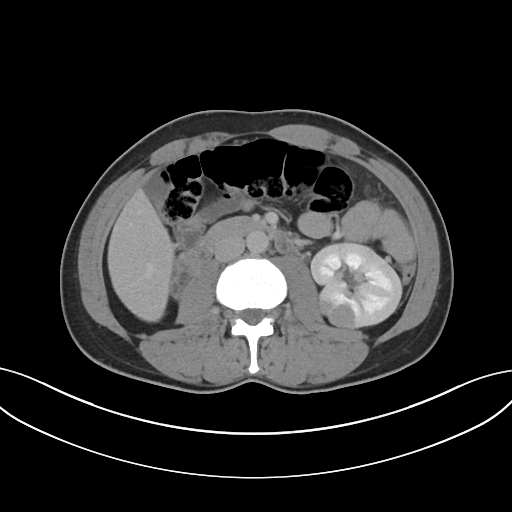Lesion: (325, 302, 360, 332)
